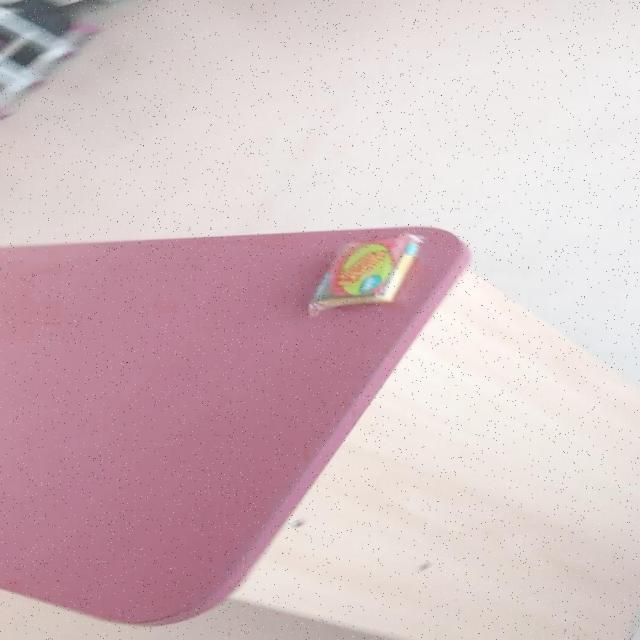Sponge: (0, 225, 473, 626), (309, 231, 428, 317)
